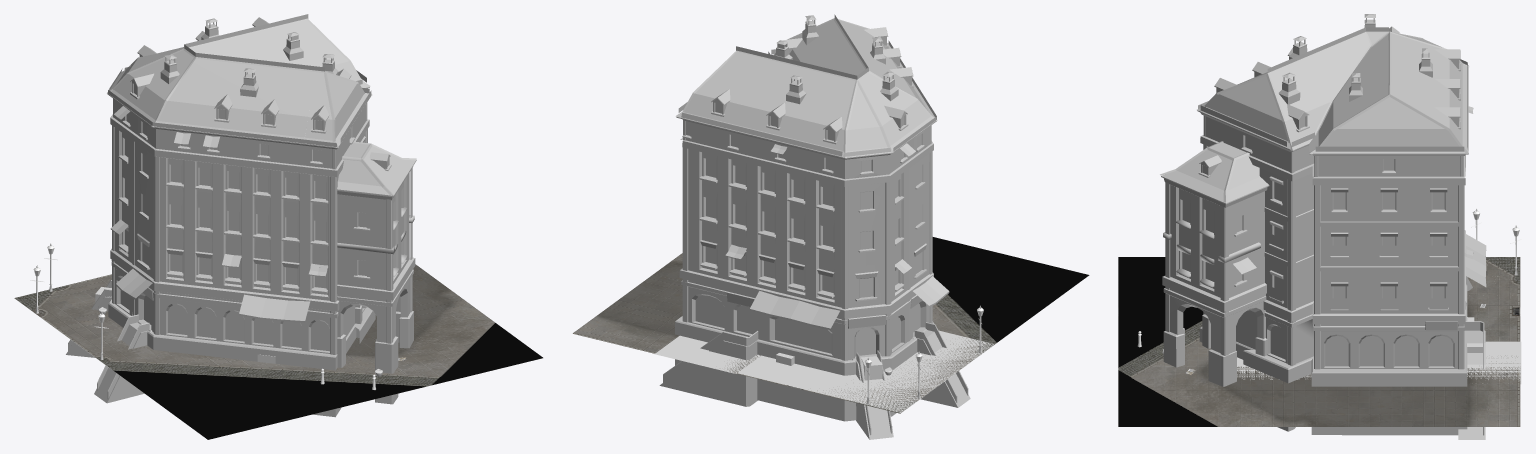
The model's file is narrow2.gltf.
3 views of the same model, side by side, from view 1: azimuth 30°, elevation 25°; view 2: azimuth 150°, elevation 25°; view 3: azimuth 270°, elevation 25° (orthographic). The views are drawn at different scales.
Parts seen in each view (by area): view 1: _lod0, decal; view 2: _lod0, decal, BuildBlocker.002, BuildBlocker; view 3: _lod0, decal, BuildBlocker.
Part boxes in pixels (x1,y1,x2,y2): _lod0: (66,14,416,417); decal: (14,264,542,439); _lod0: (659,14,970,439); decal: (573,237,1089,413); BuildBlocker.002: (737,330,993,412); BuildBlocker: (654,335,760,373); _lod0: (1160,14,1486,439); decal: (1118,257,1520,426); BuildBlocker: (1237,341,1521,384).
Size of what is drawn, in the model's own units: 4.03 by 3.68 by 4.01.
